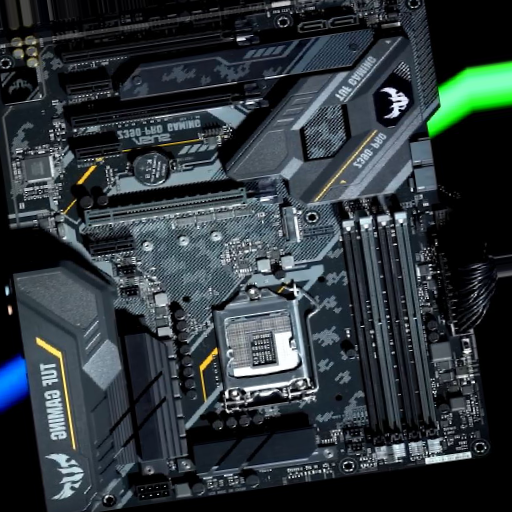CPU: (212, 285, 312, 411)
GPU: (62, 17, 258, 70), (71, 80, 269, 132), (82, 181, 280, 231)
MOTHERBOARD: (1, 3, 487, 506)
RAM: (341, 211, 441, 443)
SSD: (279, 205, 305, 243)
